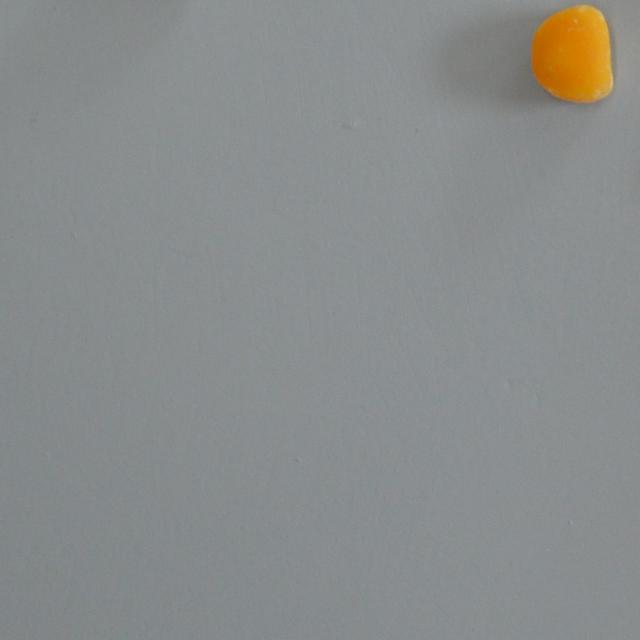dañado: (527, 0, 619, 108)
